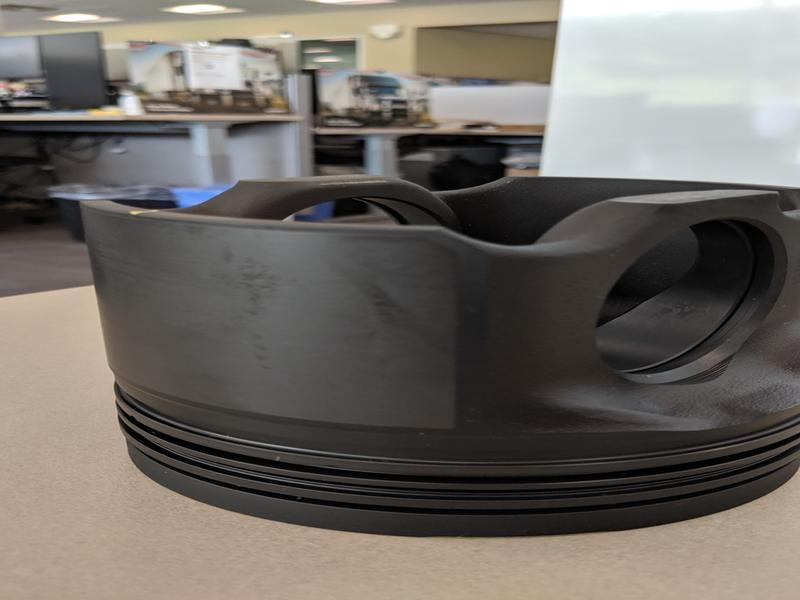piston: (78, 174, 800, 540)
